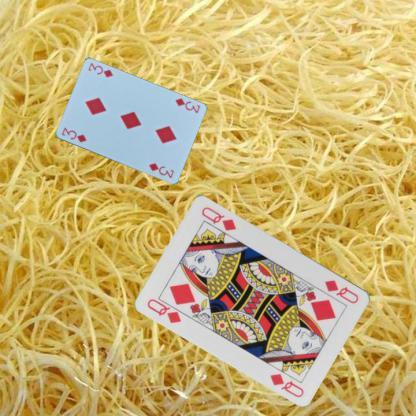3d: (59, 125, 88, 144), (172, 96, 201, 114)
Qd: (145, 294, 189, 324), (323, 276, 360, 306)
